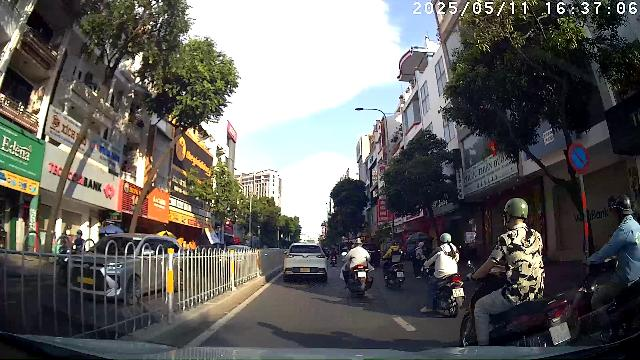131a-cam-do-xe: (568, 142, 590, 174)
